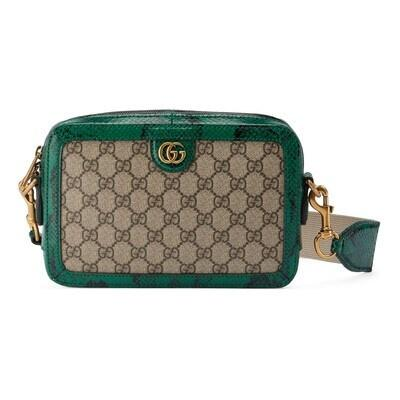GUCCI: (158, 141, 186, 163)
